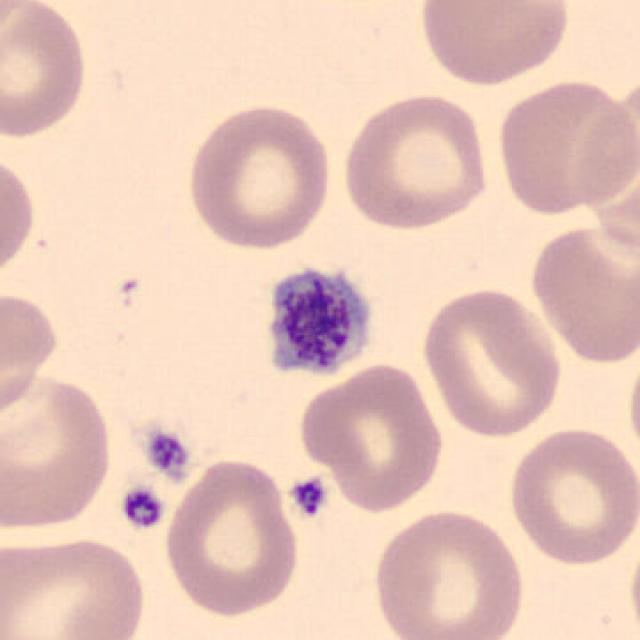Platelets: (256, 261, 379, 383), (140, 425, 192, 478), (116, 483, 167, 533), (286, 473, 331, 520)
RBC: (160, 453, 302, 621), (416, 282, 565, 441), (295, 360, 448, 514), (183, 101, 338, 252), (338, 88, 494, 233), (368, 504, 528, 640), (492, 74, 634, 217), (503, 423, 638, 568), (0, 368, 117, 535), (524, 218, 638, 366), (0, 529, 151, 640), (414, 0, 574, 88), (0, 0, 92, 141), (0, 286, 62, 425), (0, 148, 39, 284), (624, 338, 640, 472), (0, 0, 44, 47), (626, 520, 640, 640)
